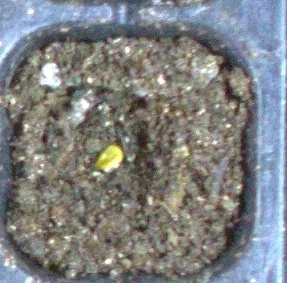chilli seed: (94, 143, 124, 172)
